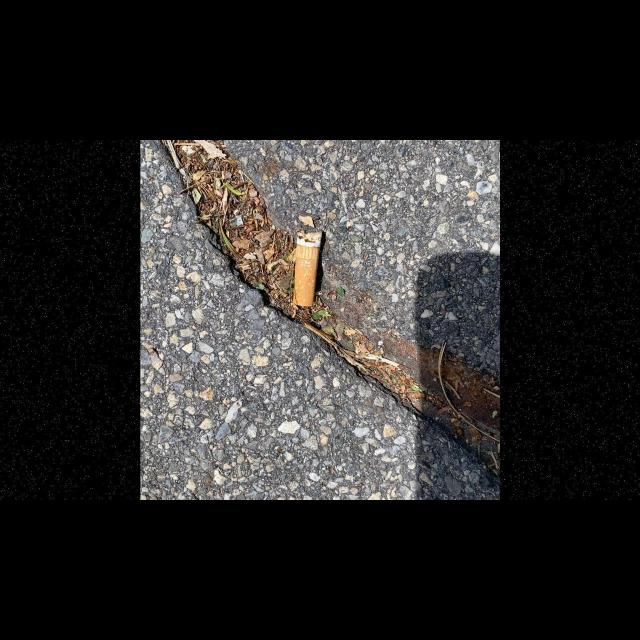cigarette: (290, 229, 323, 307)
